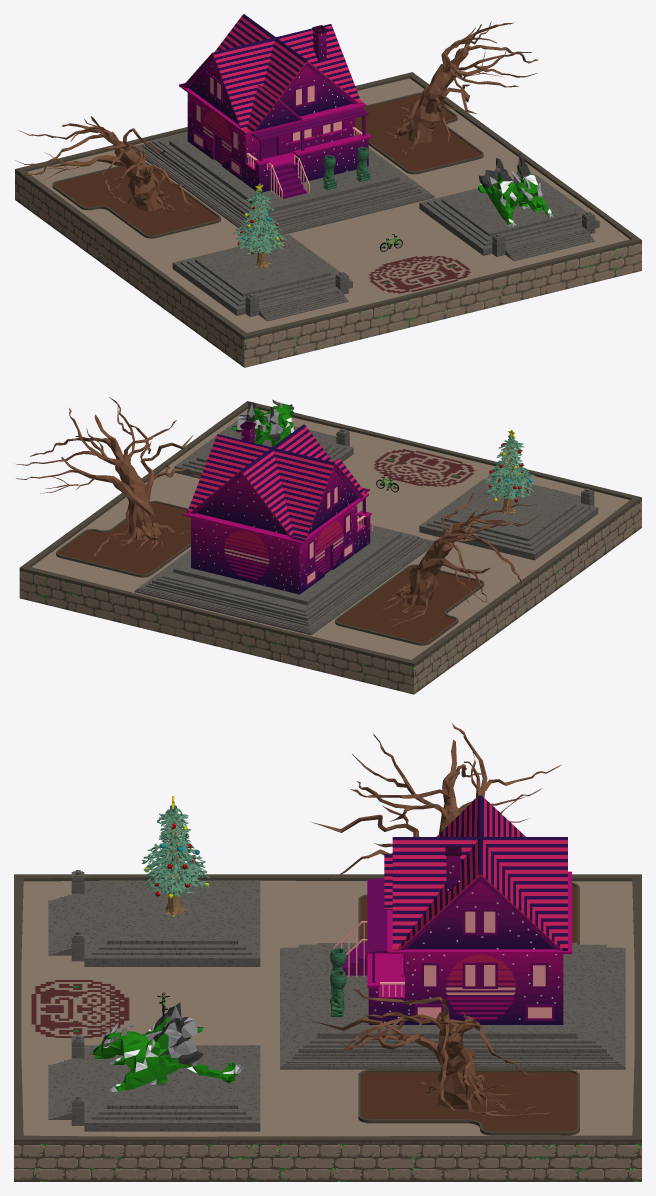
The picture shows the model from 3 angles, top to bottom: view 1: azimuth 30°, elevation 25°; view 2: azimuth 150°, elevation 25°; view 3: azimuth 270°, elevation 25°; orthographic projection. The views are drawn at different scales.
Visible parts, largest first — view 1: Cube.011, Cube.156, ANIMAL_DRAGON, OBJRANDOM_CHRISTMAS_TREE; view 2: Cube.011, Cube.156, OBJRANDOM_CHRISTMAS_TREE, ANIMAL_DRAGON; view 3: Cube.011, Cube.156, ANIMAL_DRAGON, OBJRANDOM_CHRISTMAS_TREE.
Boxes of the visible parts, x1,y1,x2,y2 form: Cube.011: [15, 22, 641, 367]; Cube.156: [179, 14, 371, 199]; ANIMAL_DRAGON: [478, 152, 555, 226]; OBJRANDOM_CHRISTMAS_TREE: [233, 184, 286, 268]; Cube.011: [14, 397, 641, 694]; Cube.156: [183, 421, 372, 594]; OBJRANDOM_CHRISTMAS_TREE: [484, 429, 534, 514]; ANIMAL_DRAGON: [231, 399, 294, 447]; Cube.011: [14, 723, 641, 1181]; Cube.156: [333, 795, 571, 1024]; ANIMAL_DRAGON: [92, 1002, 244, 1091]; OBJRANDOM_CHRISTMAS_TREE: [141, 796, 210, 916].
Bounding box in the file's own units: 5099 × 1761 × 4000.
33 materials, 7 textured.
